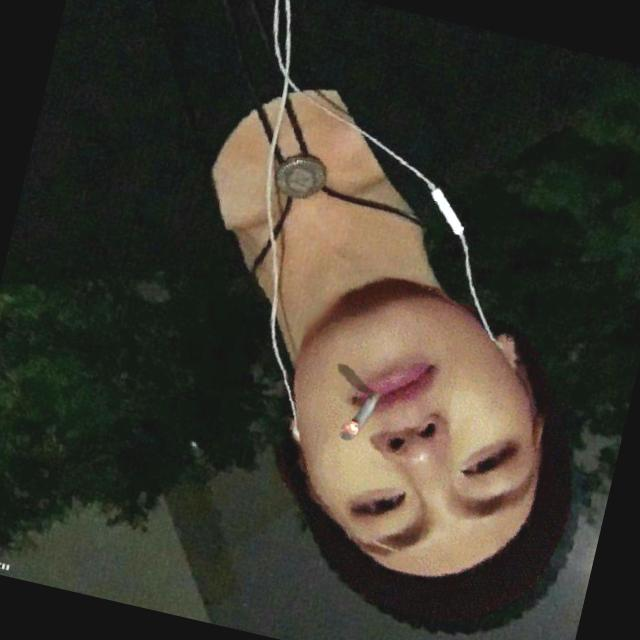smoke: (332, 370, 384, 460)
